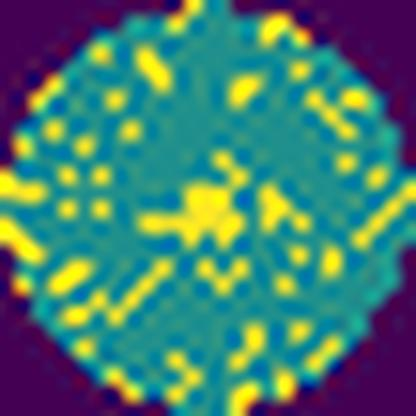Center: (141, 148, 252, 250)
